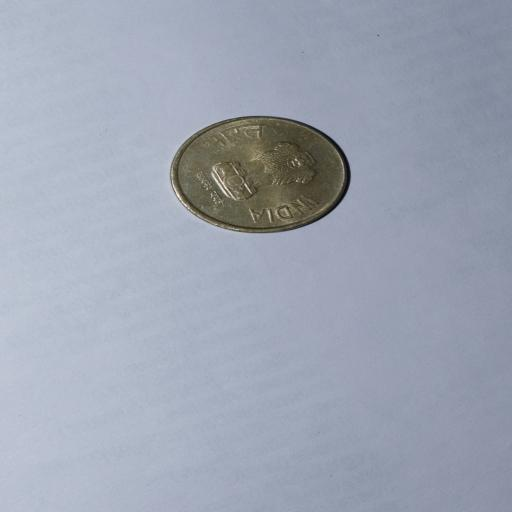rupee5: (168, 116, 347, 233)
